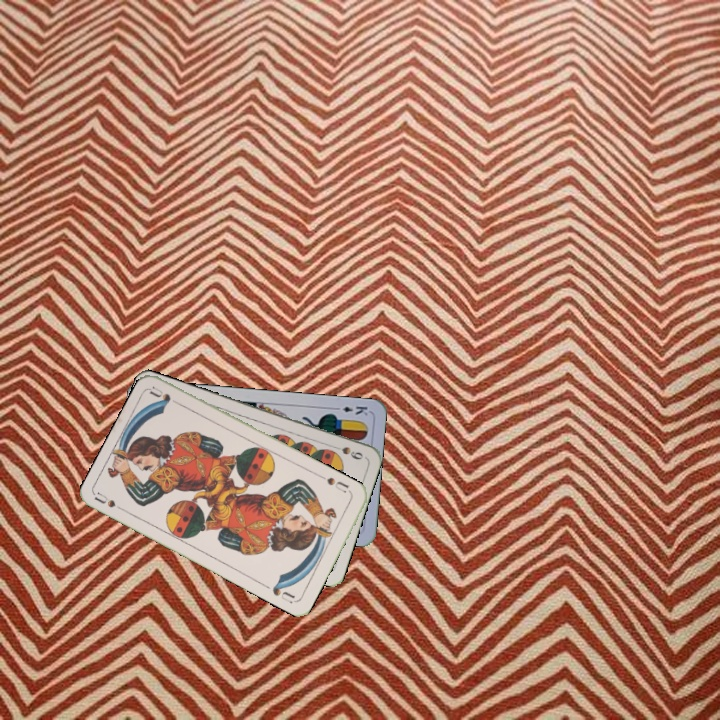EK: (330, 402, 370, 418)
S9: (327, 441, 366, 462)
SU: (91, 489, 131, 515), (323, 473, 351, 496)
